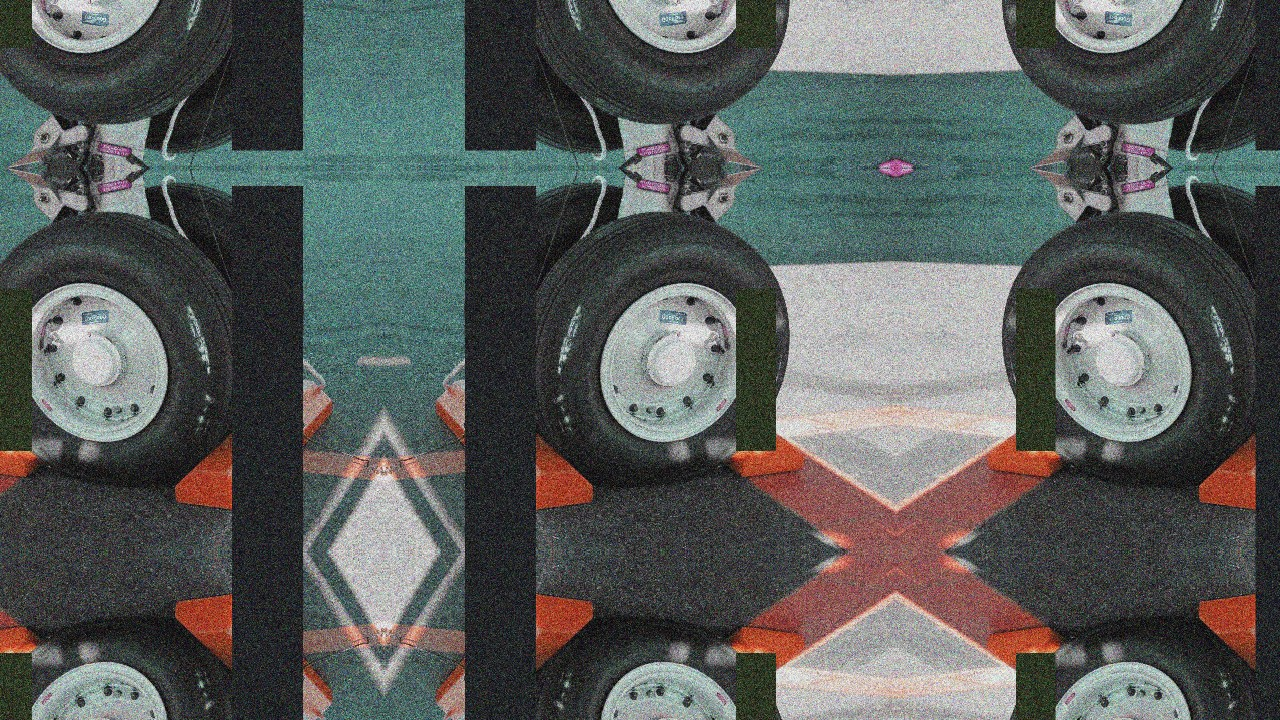chock: (174, 370, 334, 512), (434, 370, 594, 512), (174, 592, 334, 720), (434, 592, 594, 720), (673, 369, 805, 475), (987, 369, 1119, 475), (673, 629, 805, 720), (987, 629, 1119, 720), (1197, 370, 1280, 512), (1197, 592, 1280, 720), (0, 369, 94, 475), (0, 629, 94, 720)
wheel: (522, 212, 790, 482), (1002, 212, 1270, 482), (0, 212, 246, 482), (522, 0, 790, 124), (1002, 0, 1270, 124), (151, 183, 301, 398), (467, 183, 617, 398), (0, 0, 246, 124), (522, 622, 790, 720), (1002, 622, 1270, 720), (0, 622, 246, 720), (151, 0, 301, 153), (467, 0, 617, 153), (1174, 183, 1280, 398), (1174, 0, 1280, 153), (151, 706, 301, 720), (467, 706, 617, 720)
